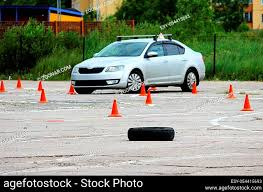car: (72, 33, 207, 95)
cone: (108, 99, 122, 117), (241, 94, 255, 112), (226, 84, 236, 99), (144, 91, 154, 105), (38, 90, 48, 103), (138, 84, 147, 97), (67, 84, 77, 94), (16, 76, 22, 91), (1, 80, 7, 93), (191, 83, 198, 94), (37, 81, 43, 91)
